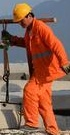boots: (18, 123, 39, 129), (0, 131, 10, 135)
gloves: (0, 28, 10, 39), (0, 40, 7, 48)
hard-hat: (12, 1, 32, 21)
ppe-suit: (0, 21, 35, 114)
